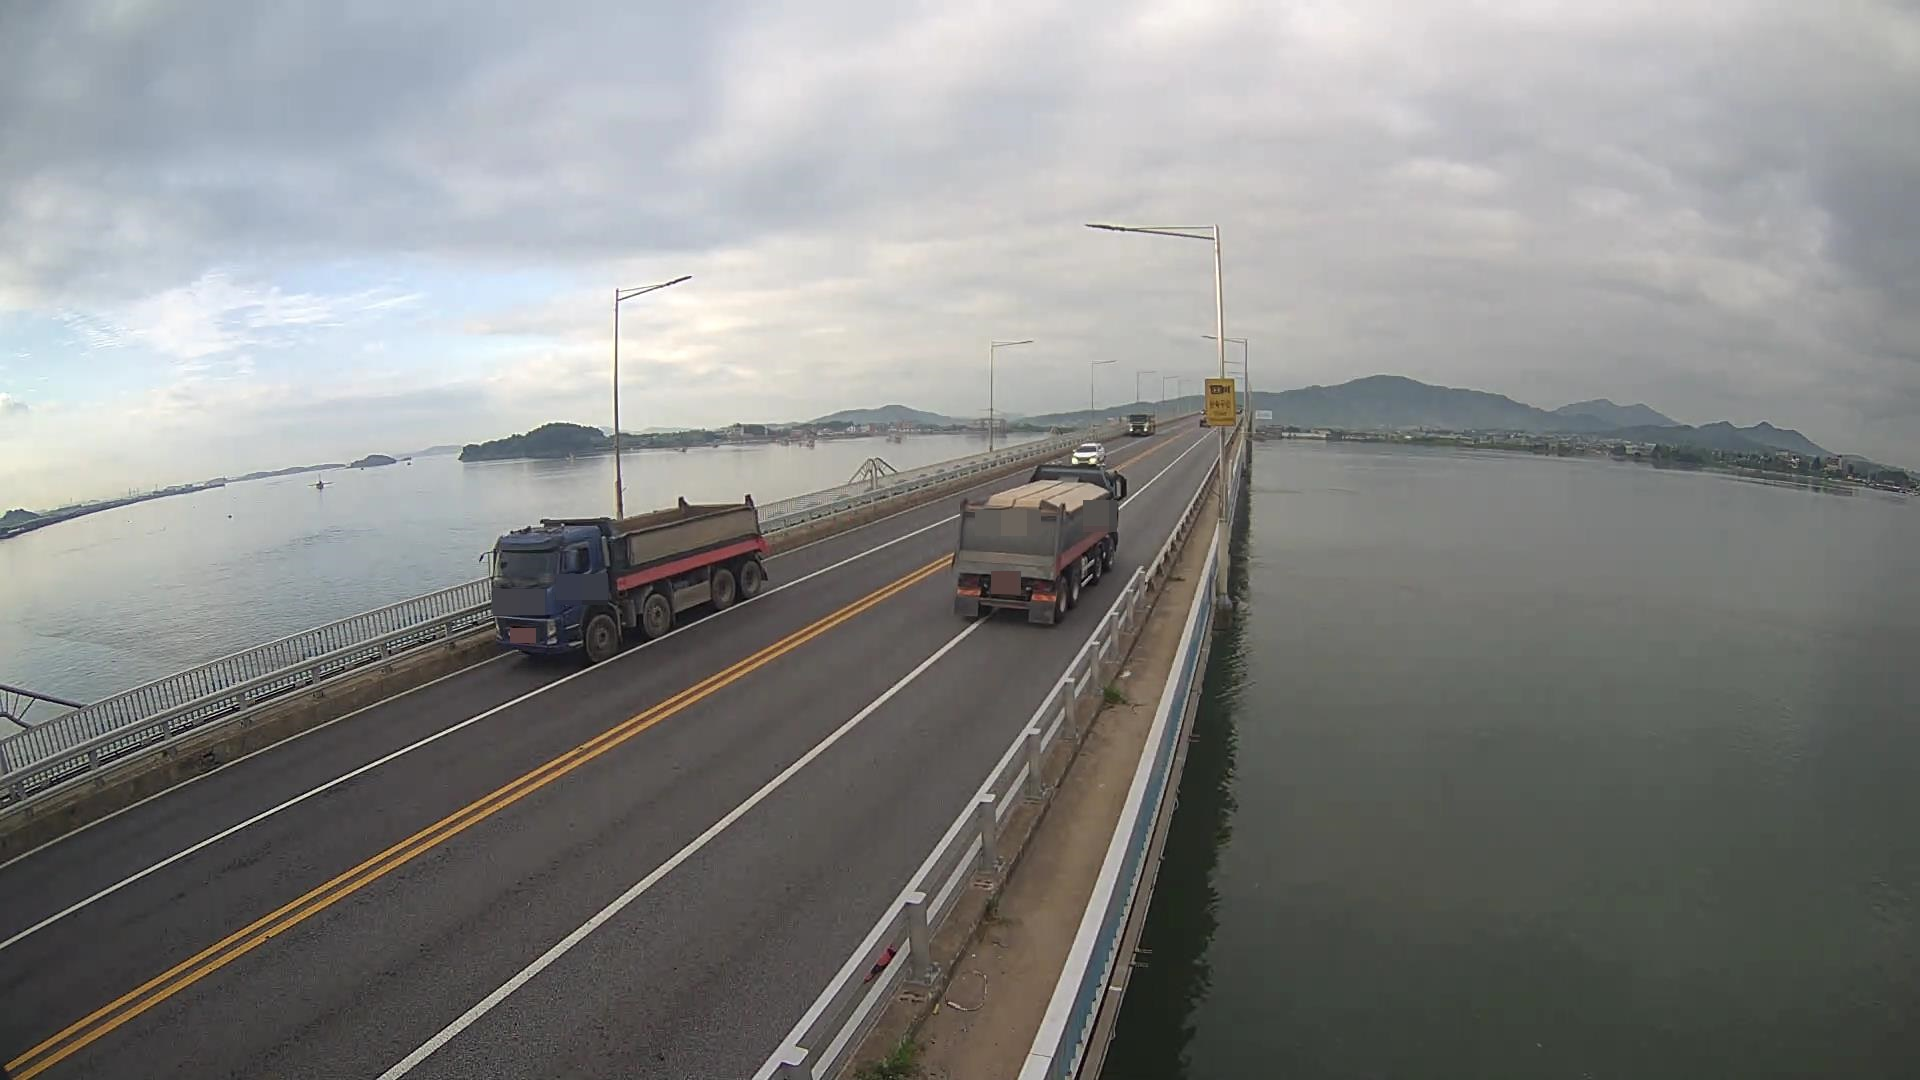정상차량: (479, 493, 767, 663)
